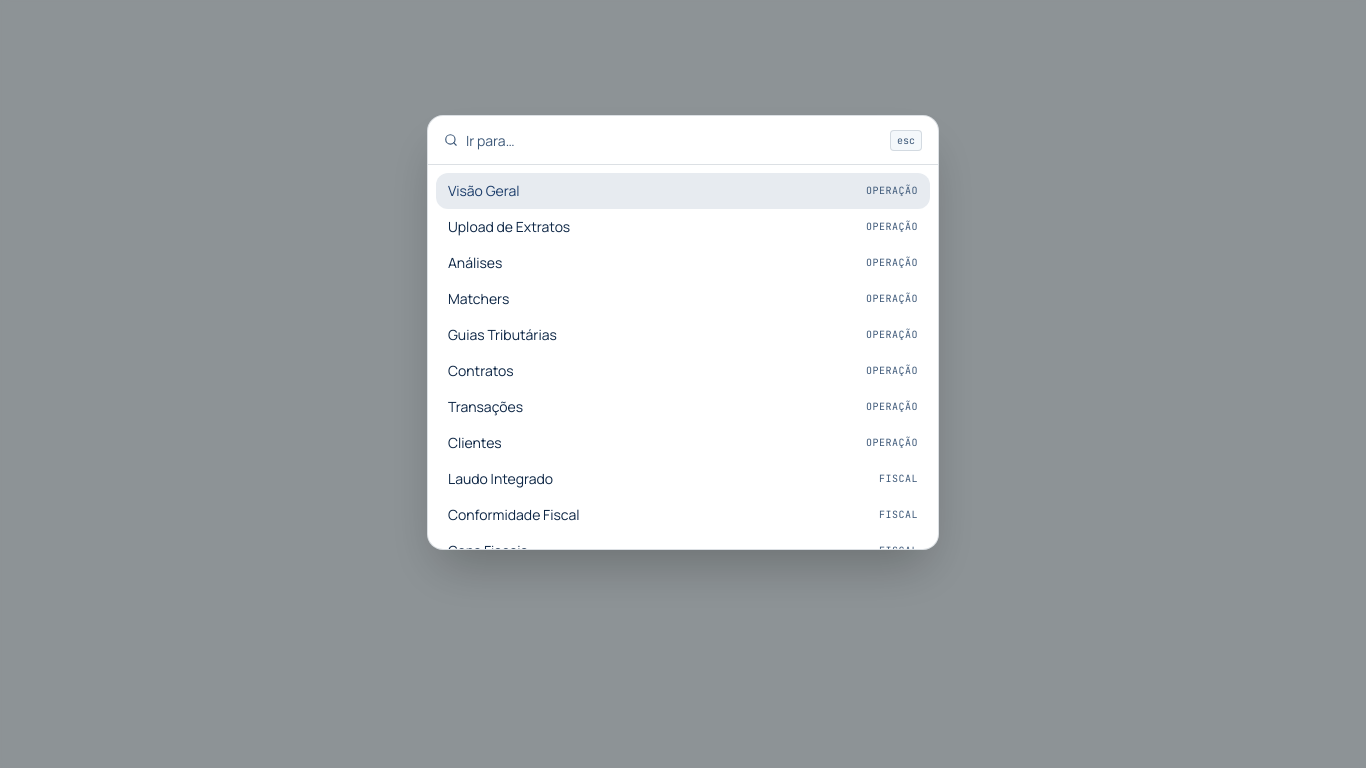
Test: CommandPalette › mostra o empty state 'Nada encontrado' quando o filtro não casa nada
Type "zzznaoexiste" into the field named "Buscar telas". click: (674, 140)
box: [466,116,882,164]
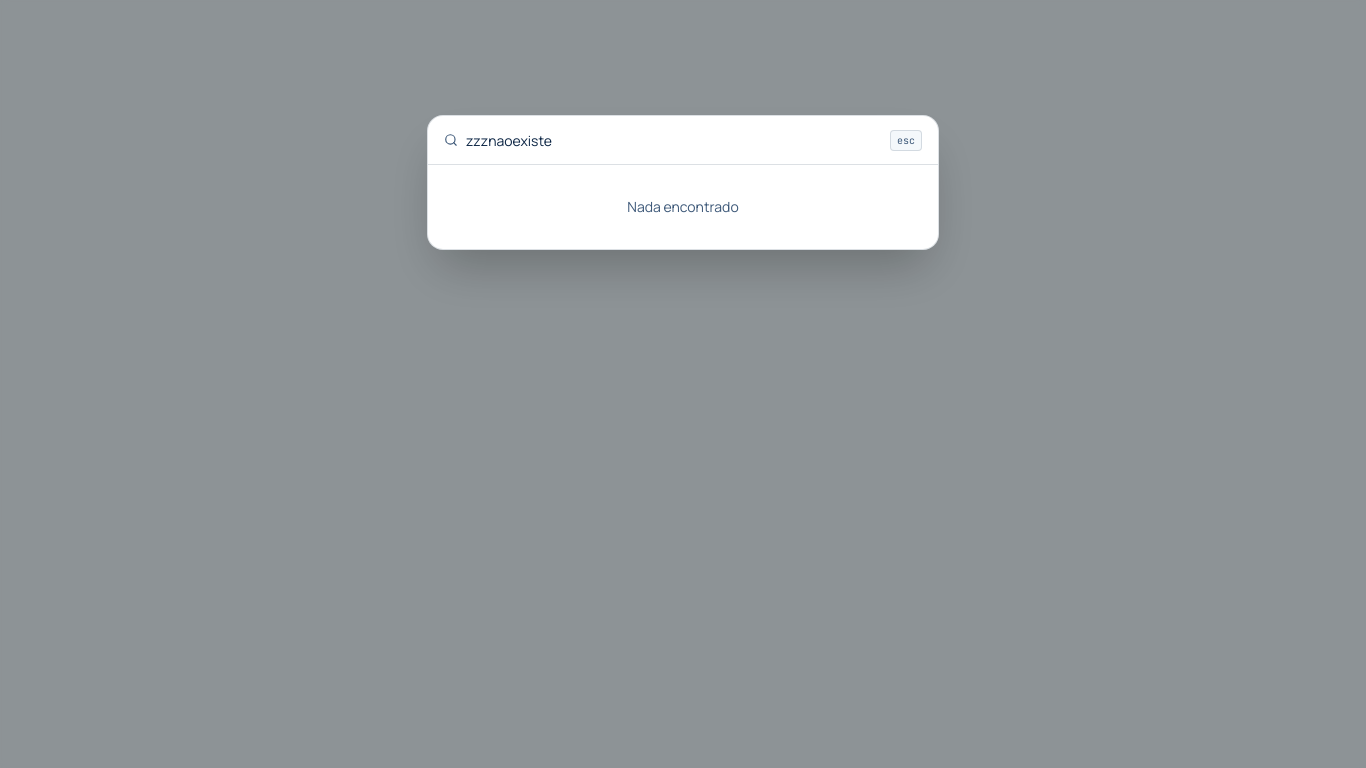
Now the list item "Nada encontrado" is shown, box [627,197,739,216]
